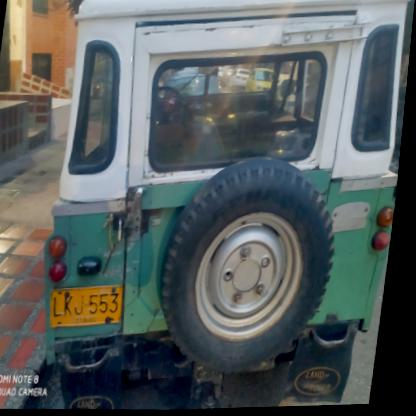placa: (46, 278, 135, 334)
